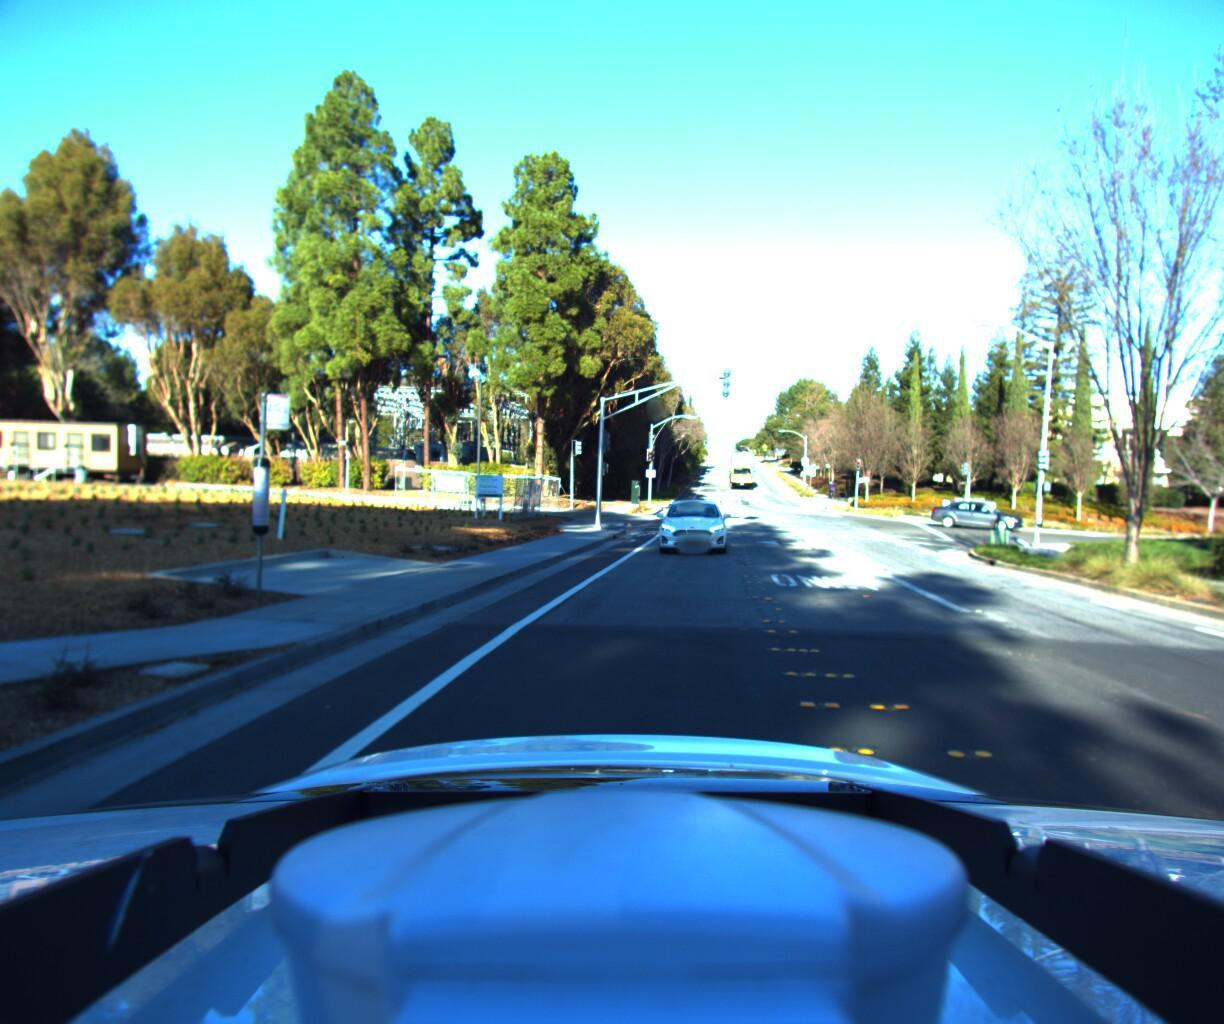car: (649, 486, 733, 560), (940, 500, 1050, 536)
